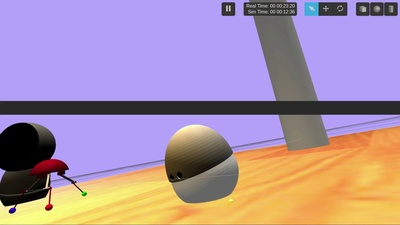mira_robot: (165, 124, 239, 203)
